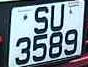3: (13, 34, 33, 65)
5: (32, 34, 48, 62)
8: (48, 31, 64, 60)
9: (63, 29, 79, 56)
S: (31, 8, 51, 33)
U: (49, 2, 66, 32)
